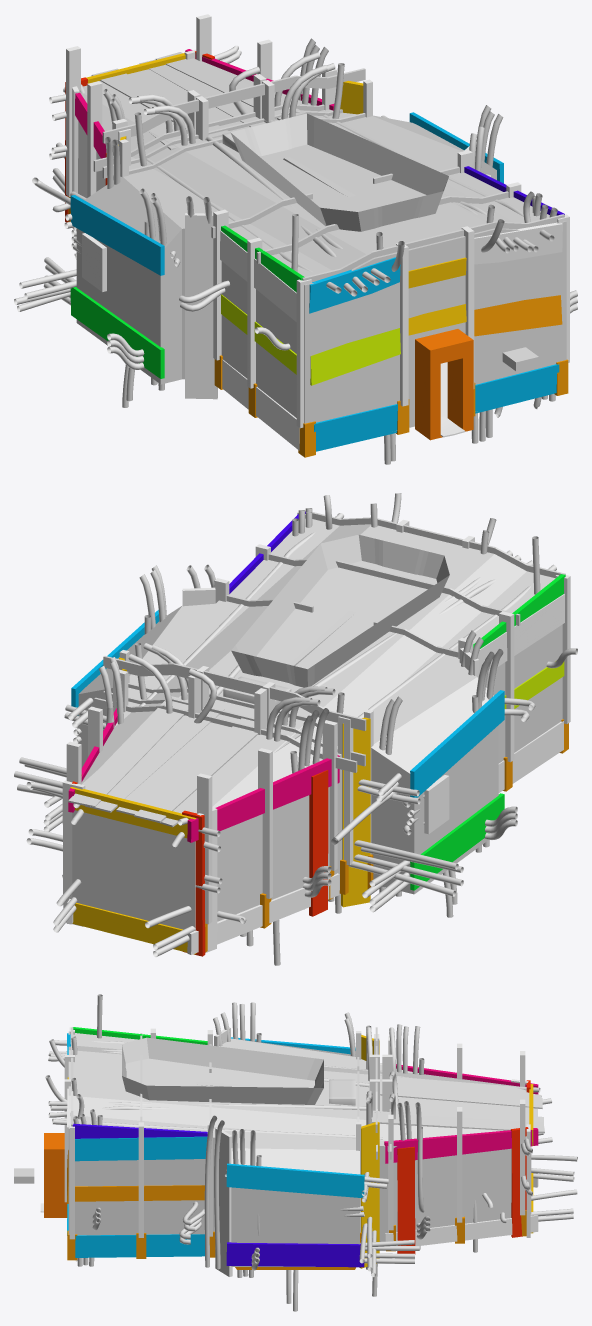
The model's file is Main Room Combined V3.fbx.
The picture shows the model from 3 angles, top to bottom: view 1: azimuth 30°, elevation 25°; view 2: azimuth 150°, elevation 25°; view 3: azimuth 270°, elevation 25°; orthographic projection. The views are drawn at different scales.
Visible parts, largest first — view 1: 02 MR Main Wall Base, 03 MR Ceiling, 08 Metal Panel Front R, 11 Pipes, 07 Ceiling Vent, 05 MR Pillars Front, 08 Metal Panel Front L, 04 MR Ceiling Support, 05 MR Pillars Back, 10 Entrance Doorframe, 09 Delivery Room Ceiling Panel, 08 Metal Panel Back (+1 smaller); view 2: 03 MR Ceiling, 02 MR Main Wall Base, 11 Pipes, 08 Metal Panel Back, 08 Metal Panel Front R, 07 Ceiling Vent, 05 MR Pillars Back, 04 MR Ceiling Support, 09 Delivery Room Ceiling Panel, 05 MR Pillars Front, 08 Metal Panel Front L, 10 Decorative Machine Box (+1 smaller); view 3: 03 MR Ceiling, 02 MR Main Wall Base, 08 Metal Panel Front L, 11 Pipes, 08 Metal Panel Back, 07 Ceiling Vent, 05 MR Pillars Back, 09 Delivery Room Ceiling Panel, 05 MR Pillars Front, 10 Entrance Doorframe, 08 Metal Panel Front R, 04 MR Ceiling Support (+1 smaller).
Boxes of the visible parts, bbox=[...] form: 02 MR Main Wall Base: bbox=[76, 121, 566, 431]; 03 MR Ceiling: bbox=[79, 61, 566, 285]; 08 Metal Panel Front R: bbox=[70, 195, 466, 451]; 11 Pipes: bbox=[14, 38, 577, 464]; 07 Ceiling Vent: bbox=[222, 113, 448, 231]; 05 MR Pillars Front: bbox=[213, 150, 569, 457]; 08 Metal Panel Front L: bbox=[409, 112, 564, 413]; 04 MR Ceiling Support: bbox=[93, 68, 564, 282]; 05 MR Pillars Back: bbox=[66, 14, 372, 221]; 10 Entrance Doorframe: bbox=[415, 329, 473, 440]; 09 Delivery Room Ceiling Panel: bbox=[91, 52, 305, 150]; 08 Metal Panel Back: bbox=[65, 49, 363, 229]; 03 MR Ceiling: bbox=[79, 518, 555, 813]; 02 MR Main Wall Base: bbox=[72, 624, 562, 929]; 11 Pipes: bbox=[14, 493, 577, 965]; 08 Metal Panel Back: bbox=[62, 657, 370, 956]; 08 Metal Panel Front R: bbox=[410, 574, 565, 890]; 07 Ceiling Vent: bbox=[223, 534, 449, 705]; 05 MR Pillars Back: bbox=[66, 650, 373, 952]; 04 MR Ceiling Support: bbox=[94, 510, 565, 772]; 09 Delivery Room Ceiling Panel: bbox=[68, 696, 302, 827]; 05 MR Pillars Front: bbox=[214, 512, 570, 791]; 08 Metal Panel Front L: bbox=[71, 511, 305, 715]; 10 Decorative Machine Box: bbox=[424, 775, 449, 834]; 03 MR Ceiling: bbox=[68, 1031, 529, 1174]; 02 MR Main Wall Base: bbox=[14, 1129, 531, 1266]; 08 Metal Panel Front L: bbox=[67, 1088, 364, 1276]; 11 Pipes: bbox=[45, 994, 577, 1311]; 08 Metal Panel Back: bbox=[359, 1035, 538, 1268]; 07 Ceiling Vent: bbox=[122, 1037, 355, 1105]; 05 MR Pillars Back: bbox=[356, 1031, 526, 1251]; 09 Delivery Room Ceiling Panel: bbox=[369, 1073, 544, 1133]; 05 MR Pillars Front: bbox=[64, 1027, 215, 1260]; 10 Entrance Doorframe: bbox=[40, 1133, 67, 1217]; 08 Metal Panel Front R: bbox=[67, 1027, 355, 1079]; 04 MR Ceiling Support: bbox=[71, 1027, 391, 1159].
Bounding box in the file's own units: 1961 × 1320 × 2807.
